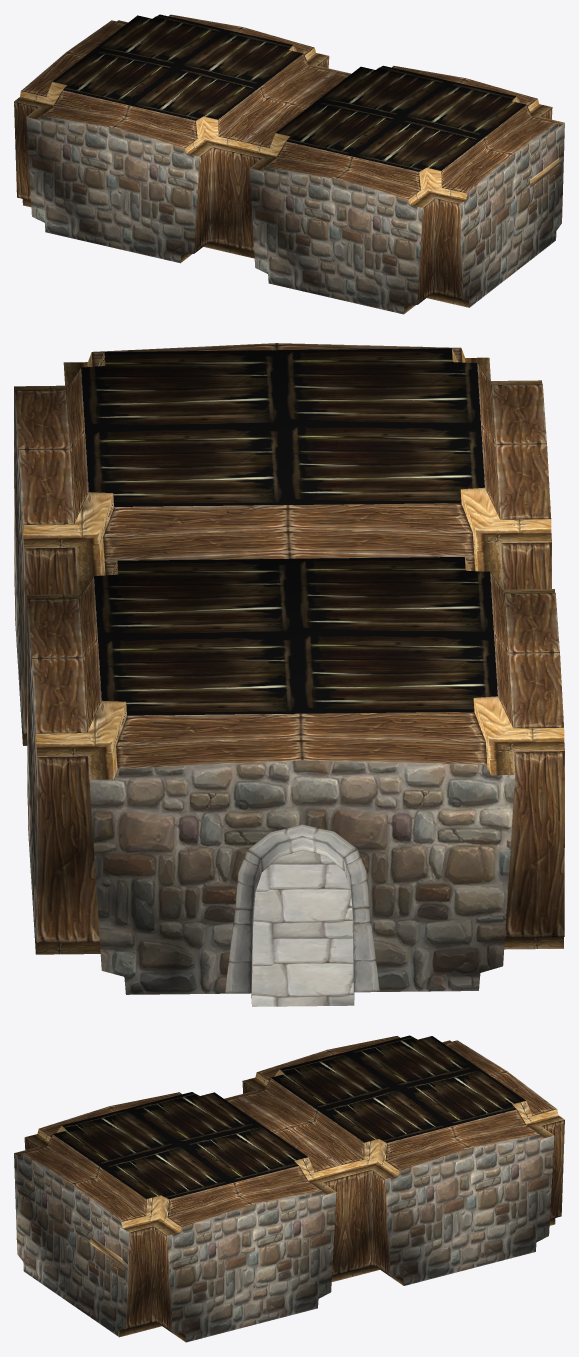
The model's file is stormwind_240.fbx.
The picture shows the model from 3 angles, top to bottom: view 1: azimuth 30°, elevation 25°; view 2: azimuth 150°, elevation 25°; view 3: azimuth 270°, elevation 25°; orthographic projection. The views are drawn at different scales.
Visible parts, largest first — view 1: stormwind_240_38, stormwind_240_53, stormwind_240_190; view 2: stormwind_240_190, stormwind_240_53, stormwind_240_38, stormwind_240_52, stormwind_240_45; view 3: stormwind_240_38, stormwind_240_53, stormwind_240_190.
Part boxes in pixels (x1,y1,x2,y2): stormwind_240_38: [26, 115, 564, 314]; stormwind_240_53: [14, 14, 564, 313]; stormwind_240_190: [52, 14, 525, 171]; stormwind_240_190: [81, 348, 497, 715]; stormwind_240_53: [14, 343, 564, 954]; stormwind_240_38: [14, 389, 515, 994]; stormwind_240_52: [252, 850, 354, 1006]; stormwind_240_45: [225, 824, 379, 1003]; stormwind_240_38: [14, 1134, 554, 1342]; stormwind_240_53: [14, 1036, 564, 1342]; stormwind_240_190: [53, 1035, 525, 1199].
Bounding box in the file's own units: 23.34 × 7.23 × 27.35.
